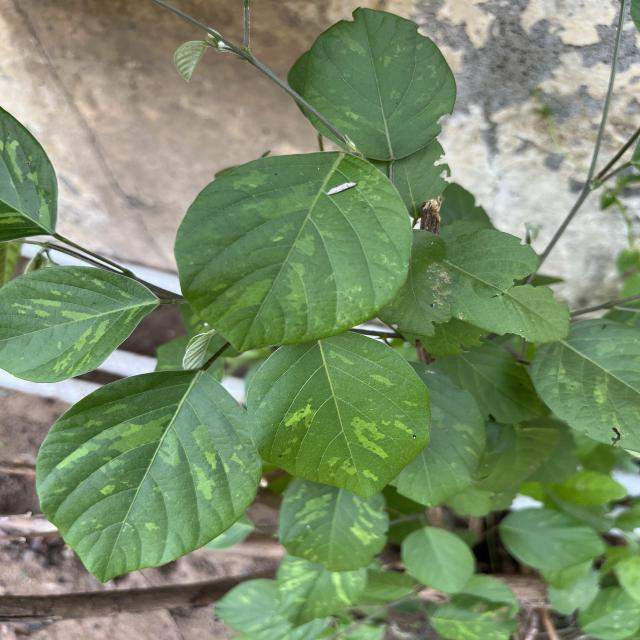Desmodium gangeticum: (31, 367, 267, 587), (172, 146, 413, 356), (242, 328, 434, 501), (299, 2, 461, 164), (0, 263, 162, 385)
